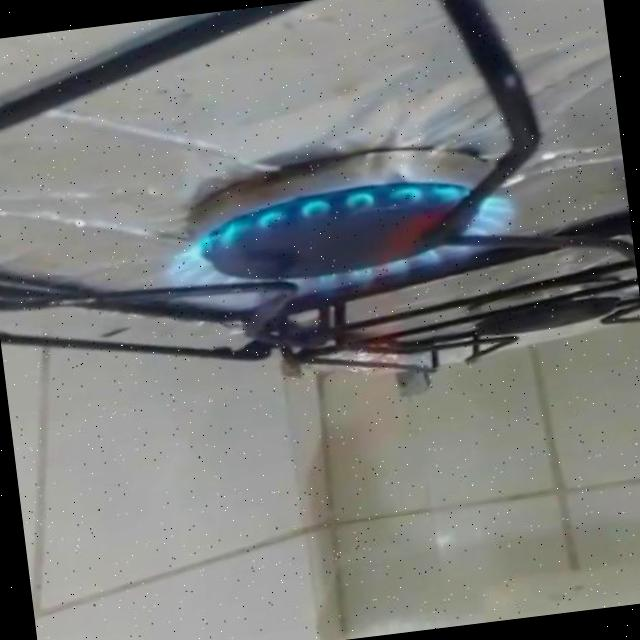fire: (139, 153, 541, 347)
